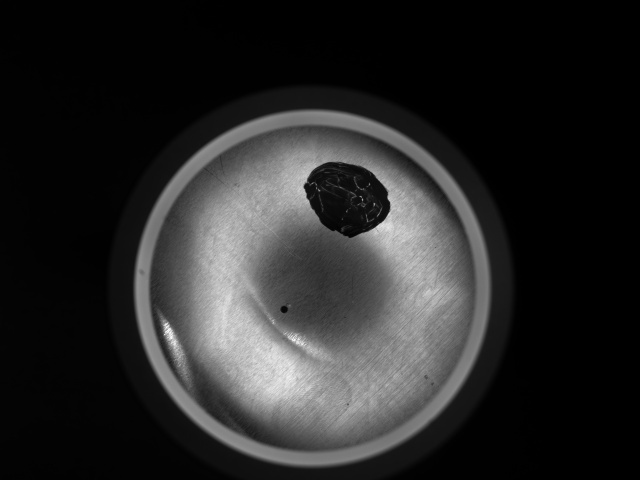zang_wu: (302, 159, 393, 240)
zhen_kong: (276, 301, 291, 318)
